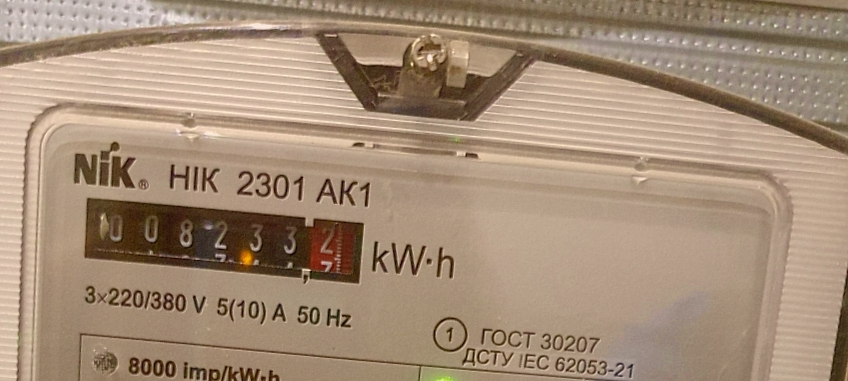0: (104, 211, 127, 244), (140, 213, 161, 245)
2: (209, 219, 232, 253), (317, 224, 337, 257)
3: (246, 221, 266, 254), (281, 223, 300, 256)
8: (176, 216, 196, 249)
screen: (70, 186, 377, 294)
